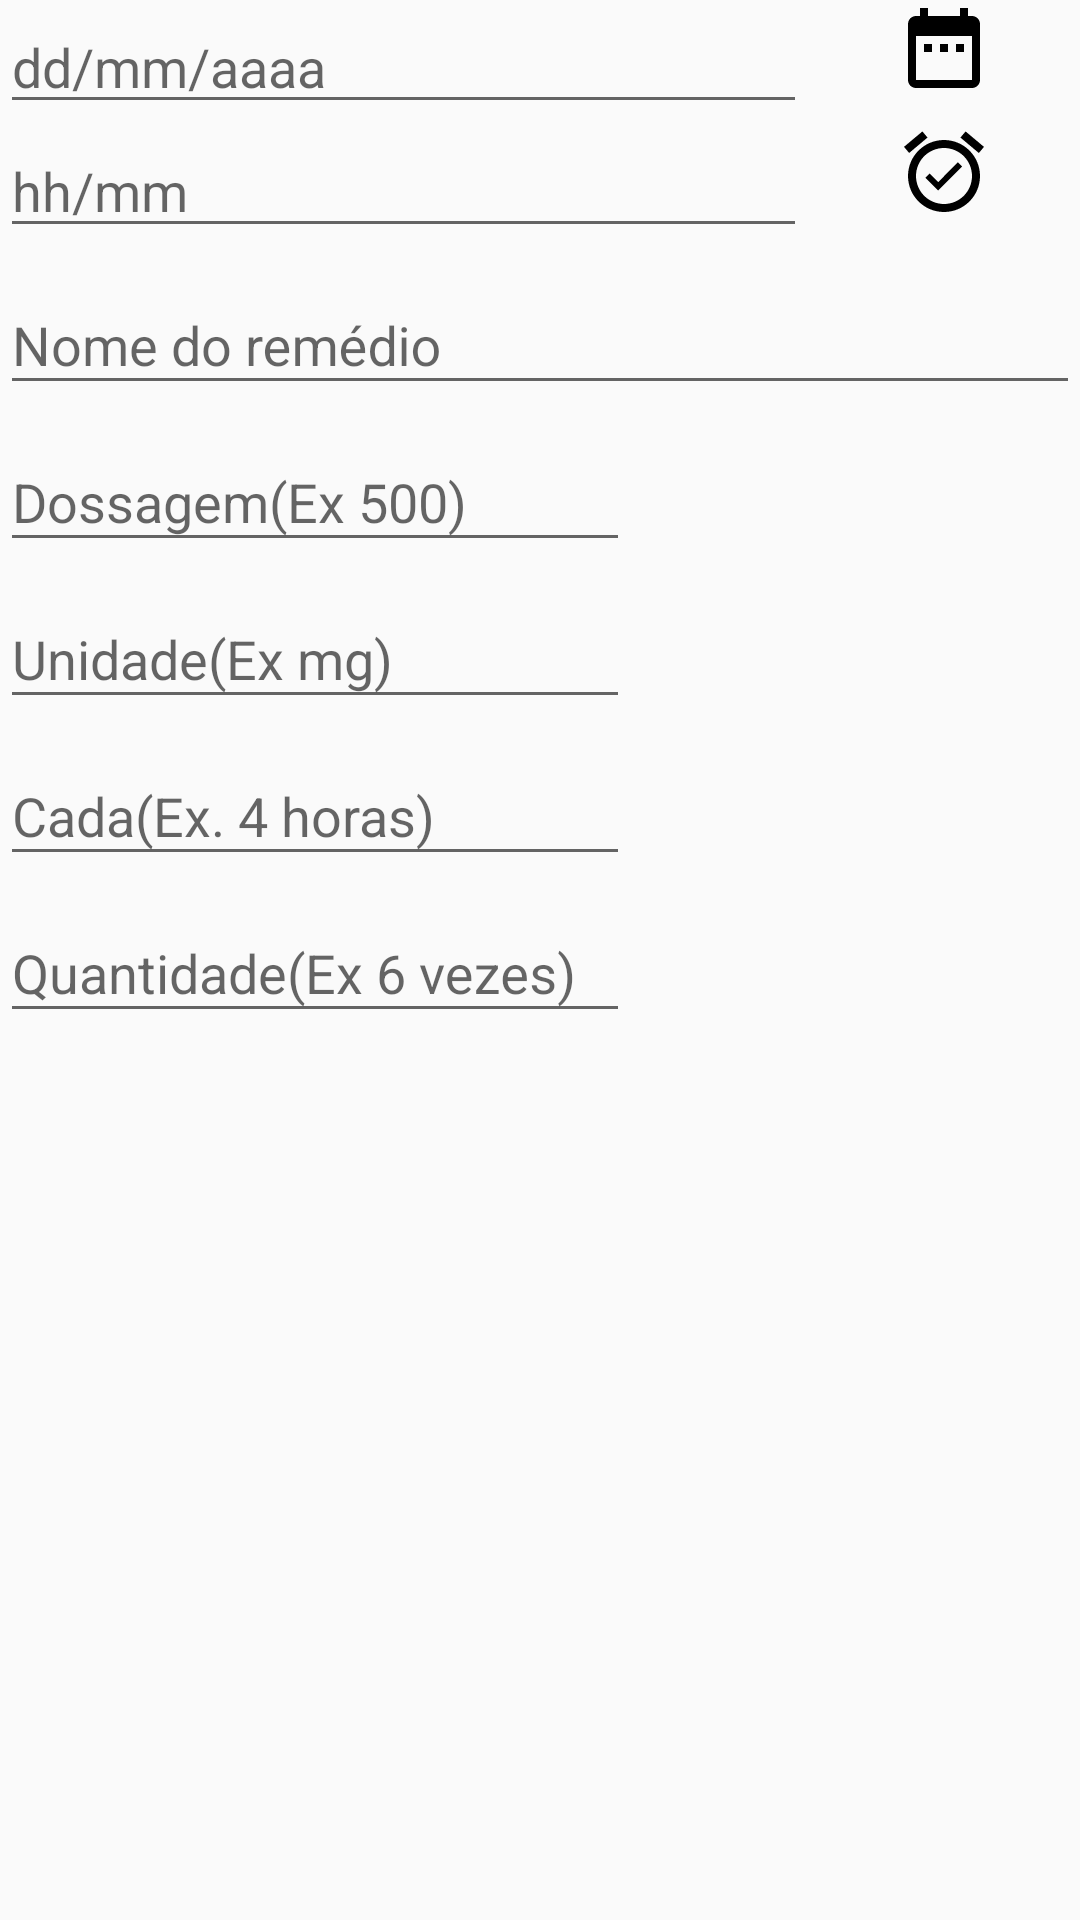

Screen size 1080 × 1920. Icon name, then its box in pixels as (x1, y1, x2, y2):
alarm on: (904, 131, 984, 212)
calendar: (908, 8, 980, 88)
